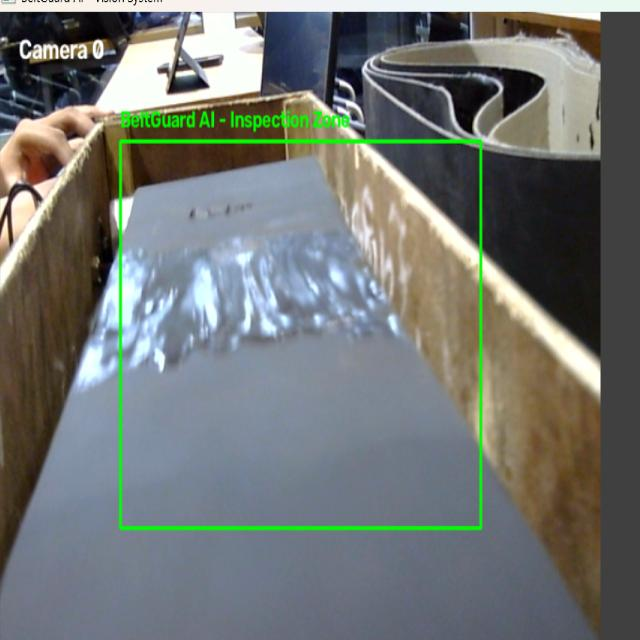Joint_Damage: (101, 234, 402, 370)
crack: (187, 199, 270, 221)
